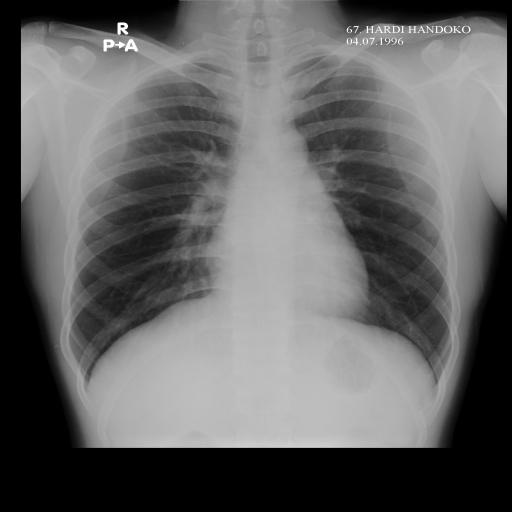normal: (57, 22, 457, 394)
